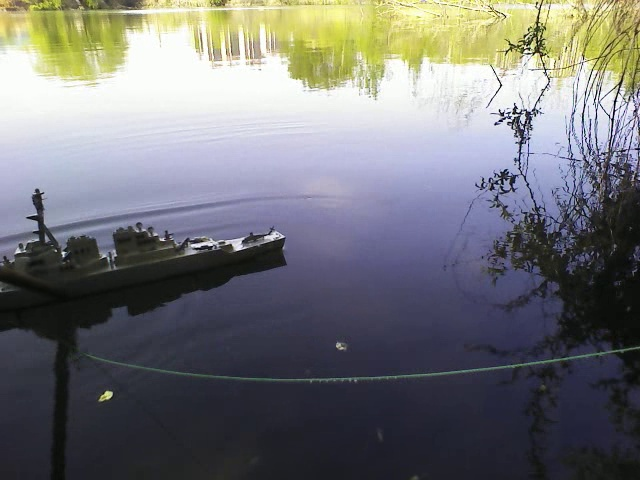warship: (3, 191, 286, 309)
